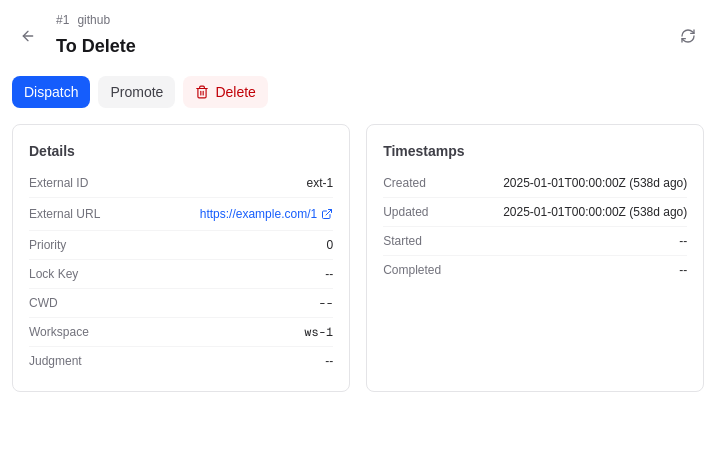
it: TaskDetailContent delete › shows error message when delete fails
The image size is (721, 471).
Click the button "Delete". click: (226, 92)
box: [183, 76, 268, 108]
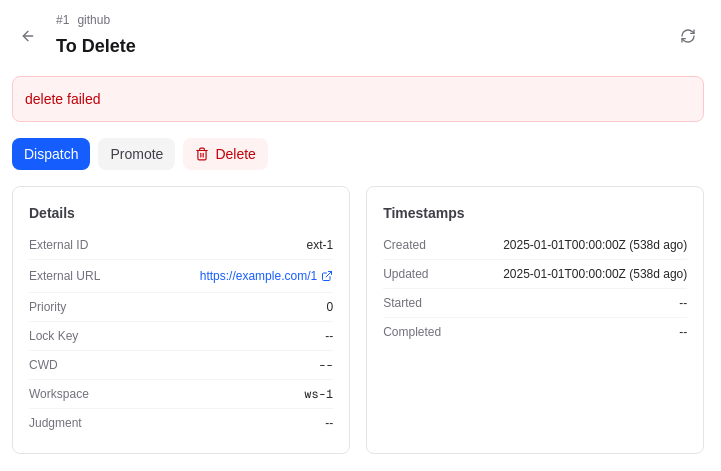
Result: the text "delete failed" is shown at [12, 76, 704, 122]
